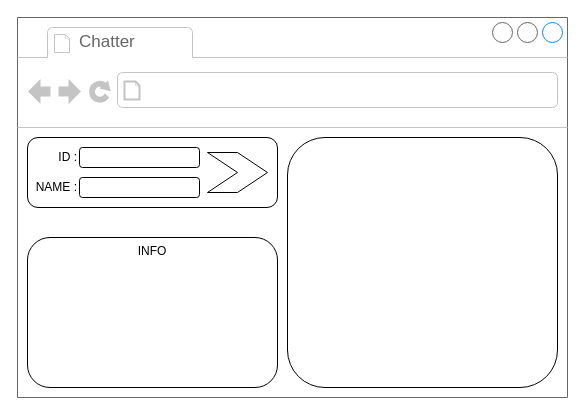
The diagram is 585 pixels wide and 415 high, and some of its shapes have lost their labels. Here are the shapes that lost their labels. From the top down, the centre of each, then its label:
At (272,90): "http://127.0.0.1".
At (422,262): "MESSAGES".
